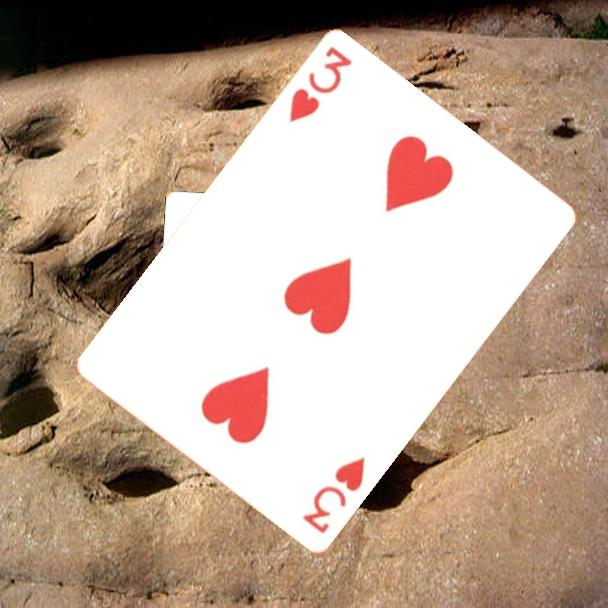h03: (285, 43, 356, 126), (299, 453, 368, 537)
